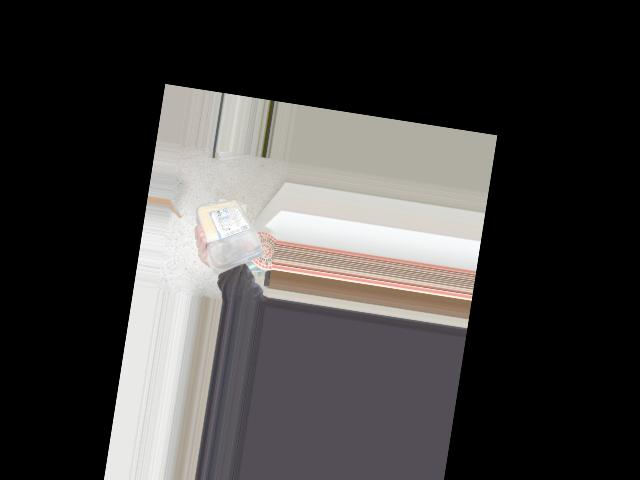cheese: (196, 189, 273, 272)
